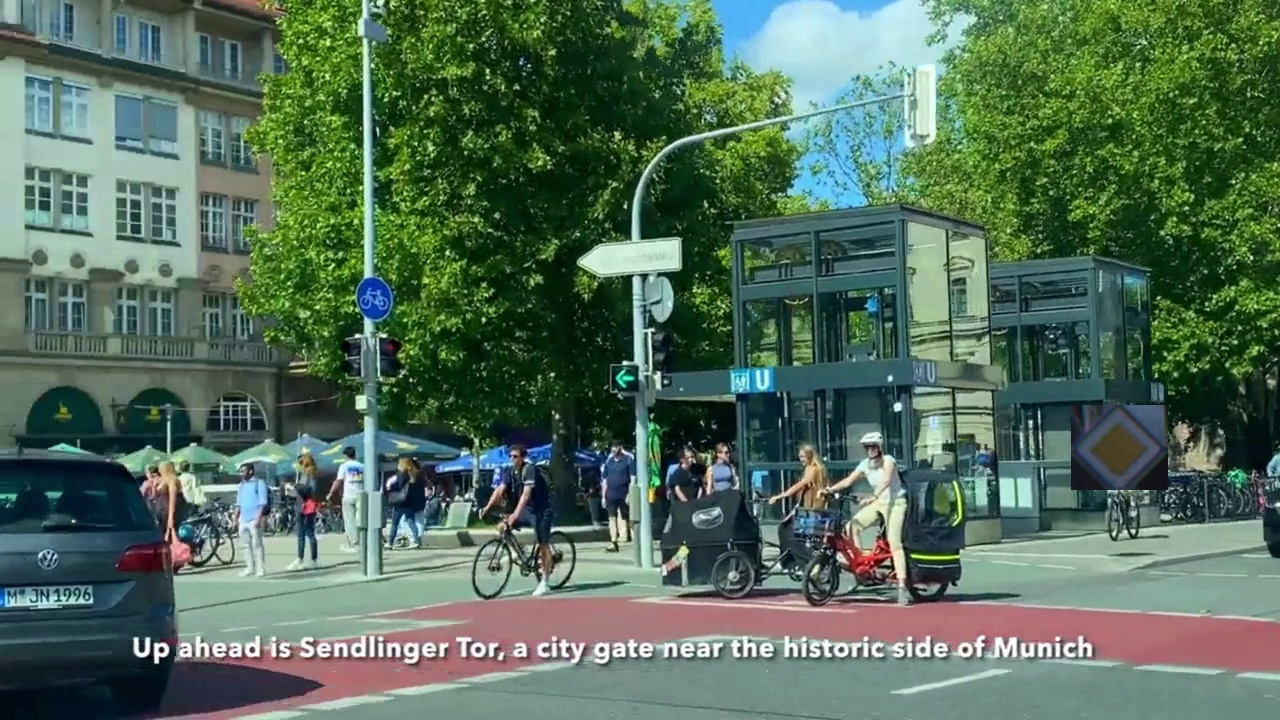Priority road: (1071, 405, 1168, 490)
